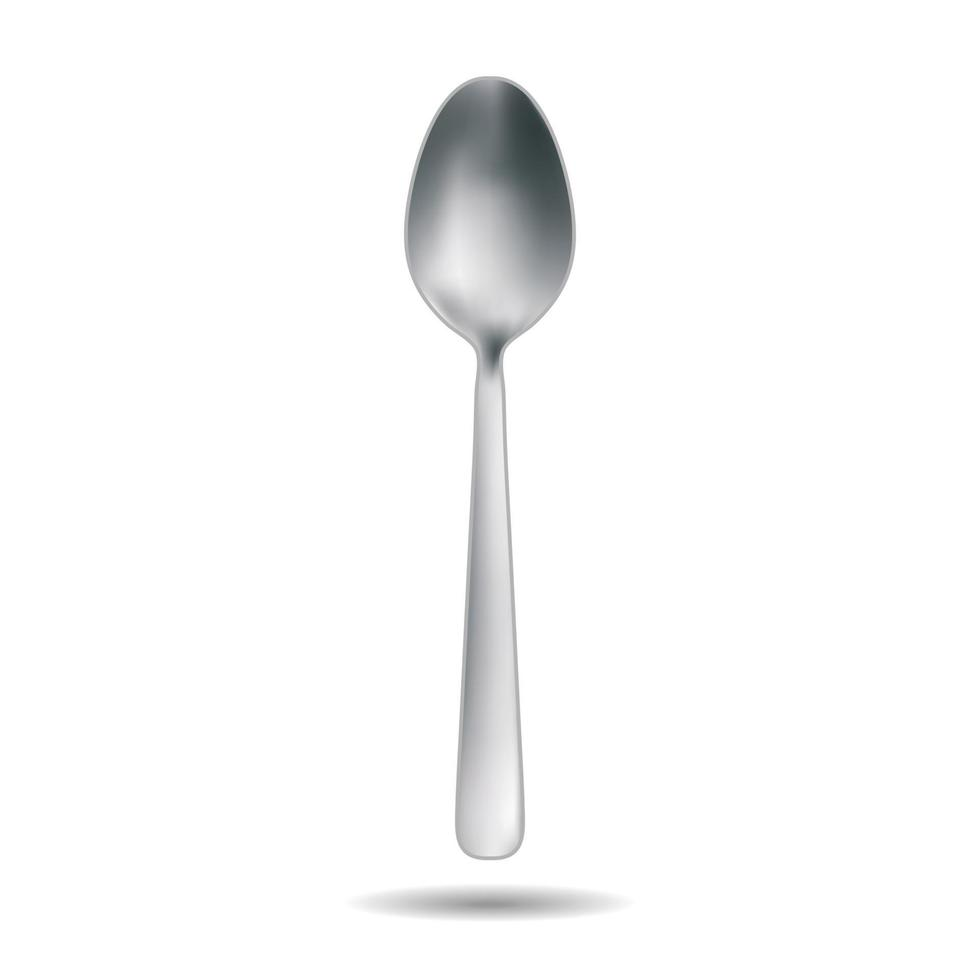metal: (400, 73, 580, 860)
